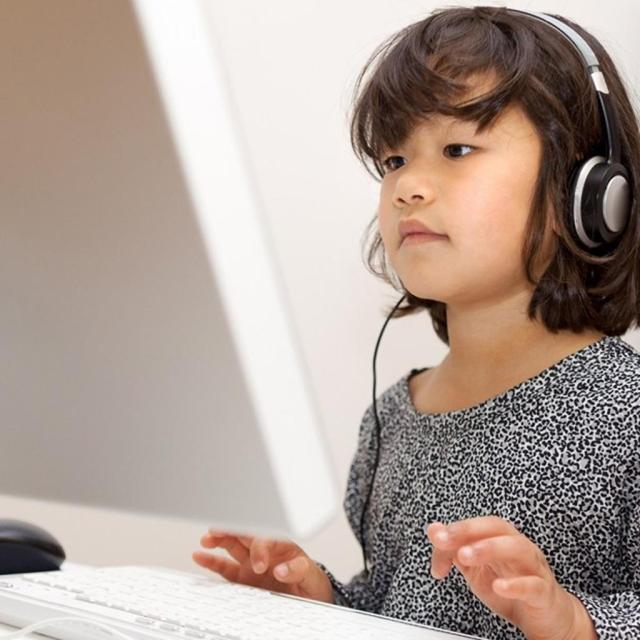Face: (376, 69, 549, 310)
